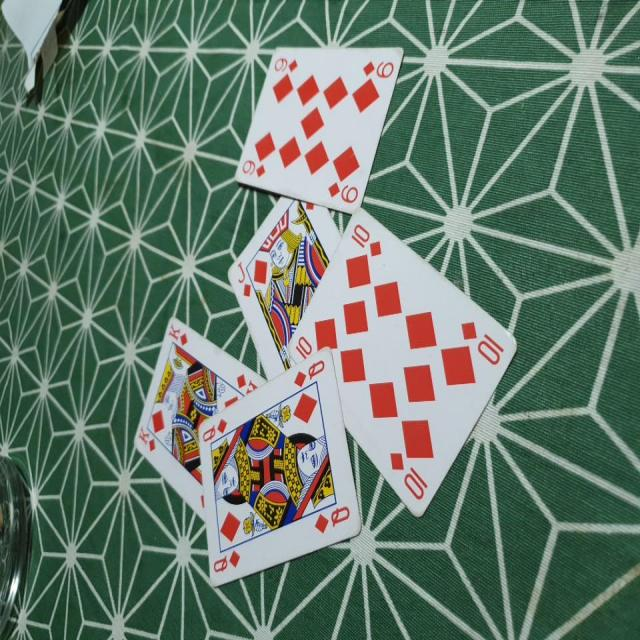10 Diamonds: (286, 205, 519, 522)
9 Diamonds: (232, 41, 405, 214)
J Diamonds: (224, 194, 342, 381)
K Diamonds: (132, 316, 268, 520)
Q Diamonds: (196, 345, 363, 588)
